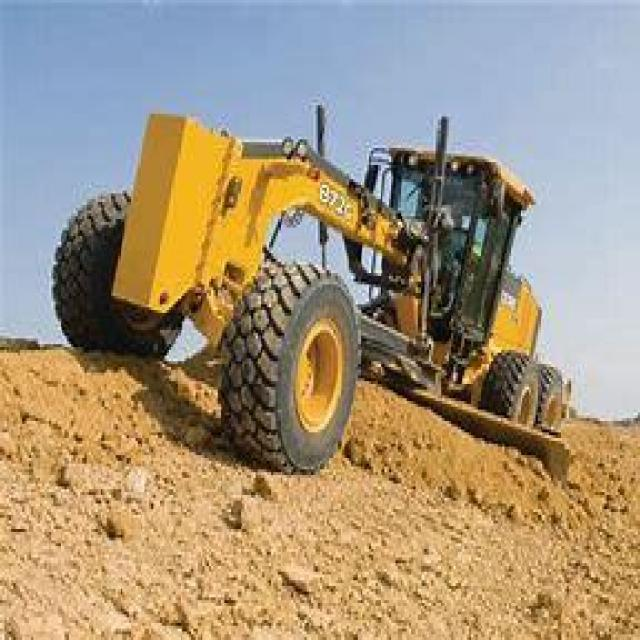Grader: (47, 71, 598, 518)
